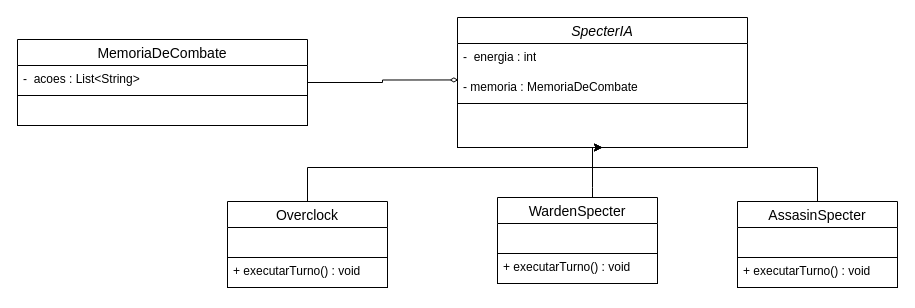
Some shapes in this 915 by 308 pixel diagram are drawn without their labels. The centre of each missing label's shape, as x and y in pixels:
"+ executarTurno () : void + receberDano(valor int) void" goes at point 602,125.
"+ registrarAcao(String acao) : void" goes at point 162,110.
